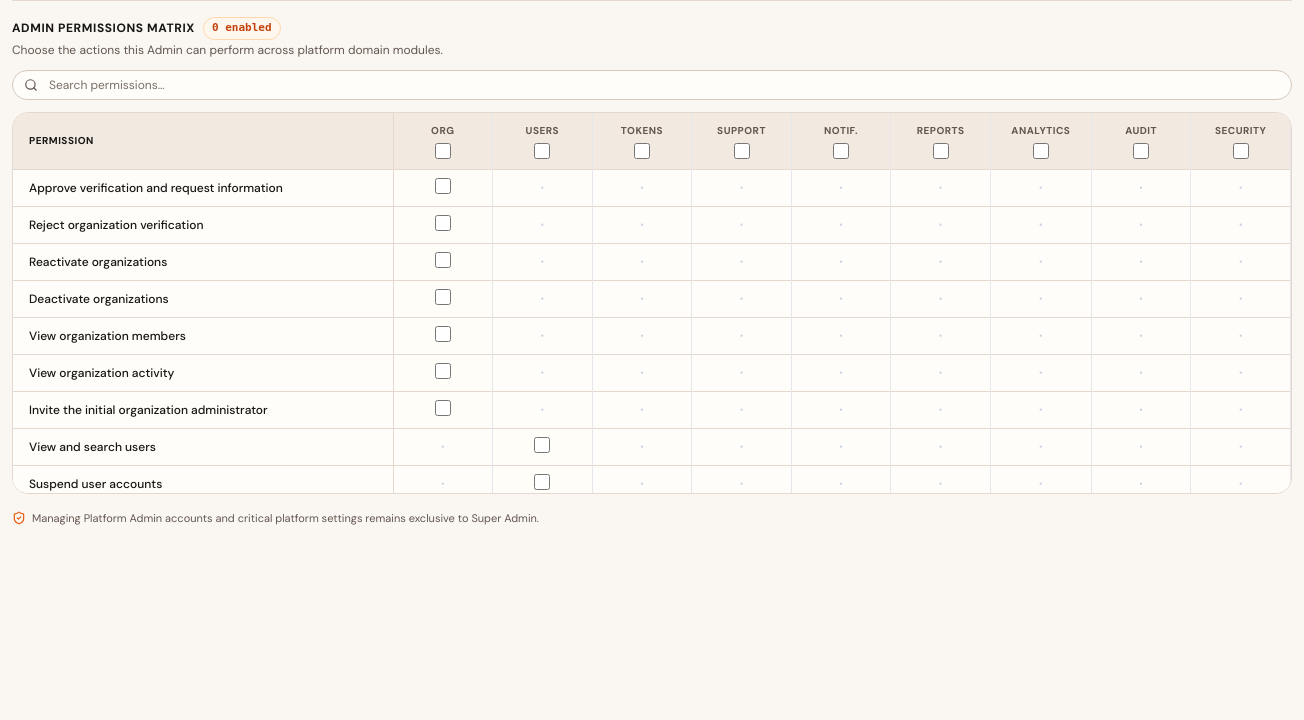
Scenario: Platform Admin Features Search (Bug 4) › handles leading and trailing whitespace cleanly without breaking matching
Type "   tokens   " into the field with placeholder "Search permissions…" at (652, 84), box x1=12 y1=70 x2=1292 y2=100
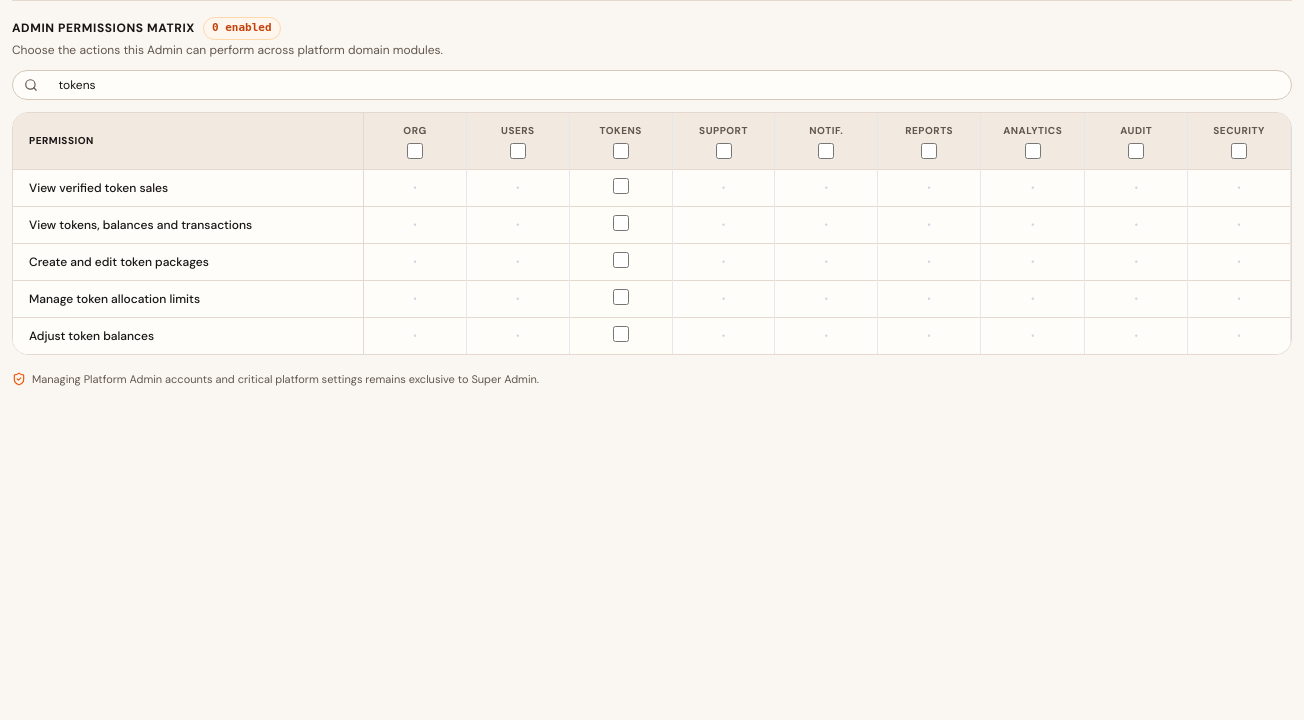
Expected: the text "View tokens, balances and transactions" is shown, x1=29 y1=216 x2=252 y2=232
